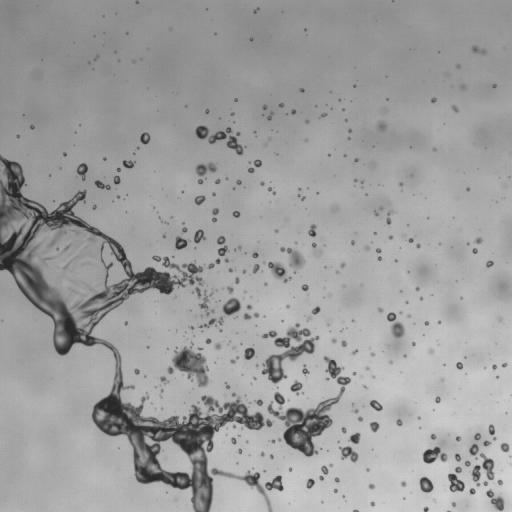droplet: (267, 356, 350, 456), (261, 323, 319, 384), (167, 342, 209, 386), (470, 453, 494, 486), (280, 247, 305, 273), (422, 446, 447, 463), (195, 163, 216, 183), (448, 466, 464, 492), (199, 316, 223, 331), (222, 298, 241, 315), (339, 446, 358, 462), (419, 476, 433, 492), (175, 236, 189, 249), (290, 380, 302, 394), (77, 163, 87, 179), (194, 229, 205, 243), (244, 346, 255, 359), (370, 400, 382, 411), (349, 432, 360, 444), (140, 132, 150, 144), (312, 243, 321, 256), (194, 195, 205, 205), (369, 421, 379, 432), (469, 444, 478, 456), (122, 160, 134, 168), (308, 224, 316, 236), (377, 121, 386, 131), (500, 442, 509, 452), (306, 478, 314, 488), (253, 159, 261, 167), (312, 306, 320, 314), (160, 376, 168, 384), (252, 264, 259, 273), (302, 365, 308, 375), (454, 453, 461, 461), (486, 260, 493, 267), (301, 284, 308, 291), (114, 176, 120, 184), (232, 211, 240, 217), (474, 237, 482, 243), (251, 252, 258, 258), (227, 286, 233, 293), (214, 343, 221, 349), (456, 362, 462, 369), (255, 399, 262, 405), (396, 419, 402, 426), (474, 433, 480, 440), (483, 440, 490, 446), (267, 112, 272, 120), (452, 105, 458, 111), (332, 205, 338, 211), (368, 483, 374, 489), (469, 488, 475, 494), (231, 437, 236, 444), (248, 167, 254, 172), (182, 227, 187, 233), (205, 338, 211, 343), (341, 340, 346, 346), (134, 368, 139, 374), (341, 427, 346, 433), (430, 434, 436, 439), (472, 248, 477, 253), (340, 262, 345, 267), (246, 304, 251, 309), (331, 338, 336, 343), (352, 349, 357, 354), (435, 397, 440, 402), (456, 436, 461, 441), (465, 461, 470, 466), (334, 477, 339, 482), (401, 481, 406, 486), (497, 480, 502, 485), (370, 501, 375, 506), (423, 506, 428, 511), (320, 113, 326, 117), (235, 277, 239, 283), (69, 288, 75, 292), (225, 383, 229, 389), (253, 8, 258, 12), (431, 98, 436, 102), (262, 105, 267, 109), (291, 109, 295, 114), (30, 124, 34, 129), (215, 179, 220, 183), (236, 180, 241, 184), (408, 238, 413, 242), (416, 243, 420, 248), (364, 246, 369, 250), (376, 248, 380, 253), (228, 268, 233, 272), (378, 308, 383, 312), (428, 349, 433, 353), (502, 363, 507, 367), (492, 364, 496, 369), (353, 409, 358, 413), (270, 439, 275, 443), (456, 64, 460, 68), (461, 85, 465, 89), (300, 88, 304, 92), (279, 103, 283, 107), (205, 109, 209, 113), (260, 181, 264, 185), (92, 205, 96, 209), (377, 256, 381, 260), (224, 258, 228, 262), (242, 269, 246, 273), (307, 316, 311, 320), (370, 352, 374, 356), (365, 366, 369, 370), (358, 417, 362, 421), (260, 452, 264, 456), (483, 481, 487, 485), (451, 502, 455, 506), (236, 246, 241, 249), (354, 158, 358, 161), (399, 182, 402, 186), (275, 229, 278, 233), (389, 235, 392, 239), (415, 287, 419, 290), (425, 321, 428, 325), (189, 326, 193, 329), (238, 449, 241, 453), (270, 454, 273, 458), (334, 488, 337, 492), (353, 509, 358, 511), (348, 129, 351, 132), (117, 168, 120, 171), (374, 212, 377, 215), (351, 241, 354, 244), (407, 314, 410, 317), (438, 320, 441, 323), (412, 342, 415, 345), (253, 377, 256, 380), (363, 385, 366, 388), (329, 463, 332, 466), (432, 148, 436, 150), (95, 56, 98, 58), (493, 84, 495, 87), (231, 112, 233, 115), (306, 120, 308, 123), (16, 135, 19, 137), (63, 153, 66, 155), (103, 157, 105, 160), (466, 188, 469, 190), (212, 193, 215, 195), (374, 232, 376, 235), (162, 235, 165, 237), (286, 305, 289, 307), (399, 311, 402, 313), (499, 317, 501, 320), (389, 361, 392, 363), (353, 372, 355, 375), (289, 468, 292, 470), (136, 0, 138, 2), (354, 179, 356, 181), (361, 181, 363, 183), (117, 196, 119, 198), (380, 207, 382, 209), (165, 222, 167, 224), (125, 322, 127, 324), (418, 416, 420, 418), (342, 495, 344, 497)
ligament: (0, 155, 283, 511), (195, 125, 244, 155), (207, 236, 228, 268), (267, 261, 291, 282), (387, 312, 404, 338), (486, 489, 504, 511), (94, 180, 110, 189), (488, 424, 496, 440), (319, 466, 328, 480), (243, 312, 259, 319), (472, 46, 485, 54), (386, 210, 392, 224), (212, 208, 218, 221), (267, 187, 275, 194), (63, 262, 70, 269), (230, 357, 238, 363), (298, 194, 304, 200), (63, 245, 69, 251), (159, 389, 163, 396), (447, 510, 450, 511)
